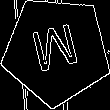M_S: (29, 20, 84, 81)
